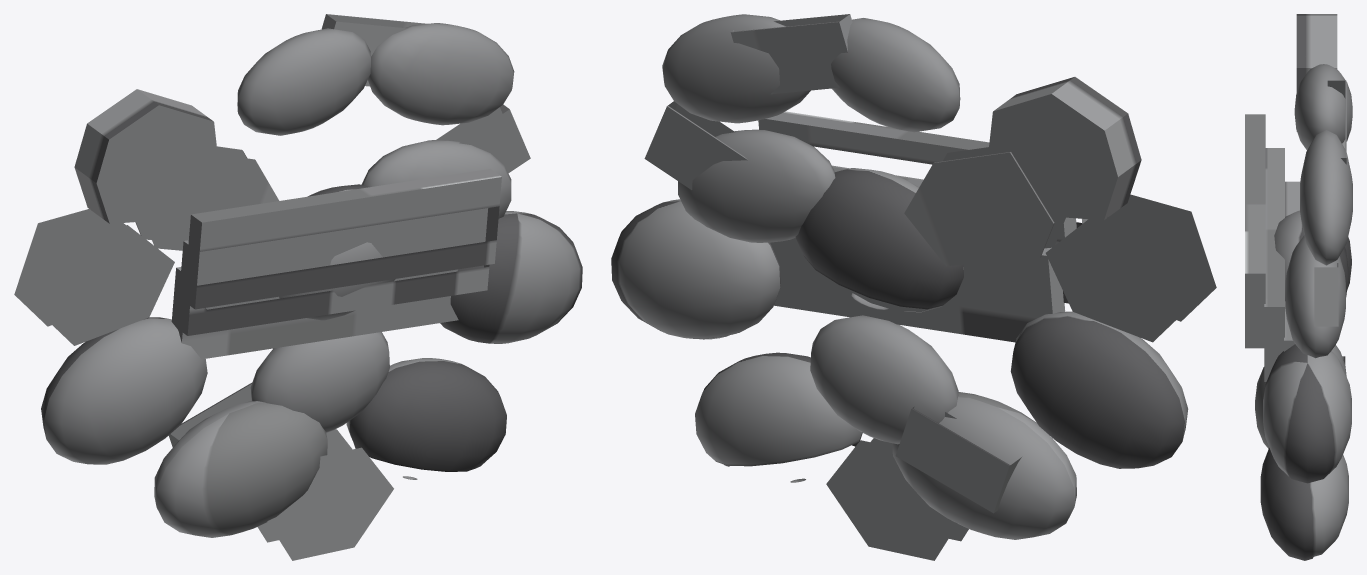
3 renders of one model, left to right at view 1: azimuth 30°, elevation 25°; view 2: azimuth 150°, elevation 25°; view 3: azimuth 270°, elevation 25°, orthographic. The views are drawn at different scales.
Size of the model in its own units: 1.08 by 0.9382 by 0.2001.
